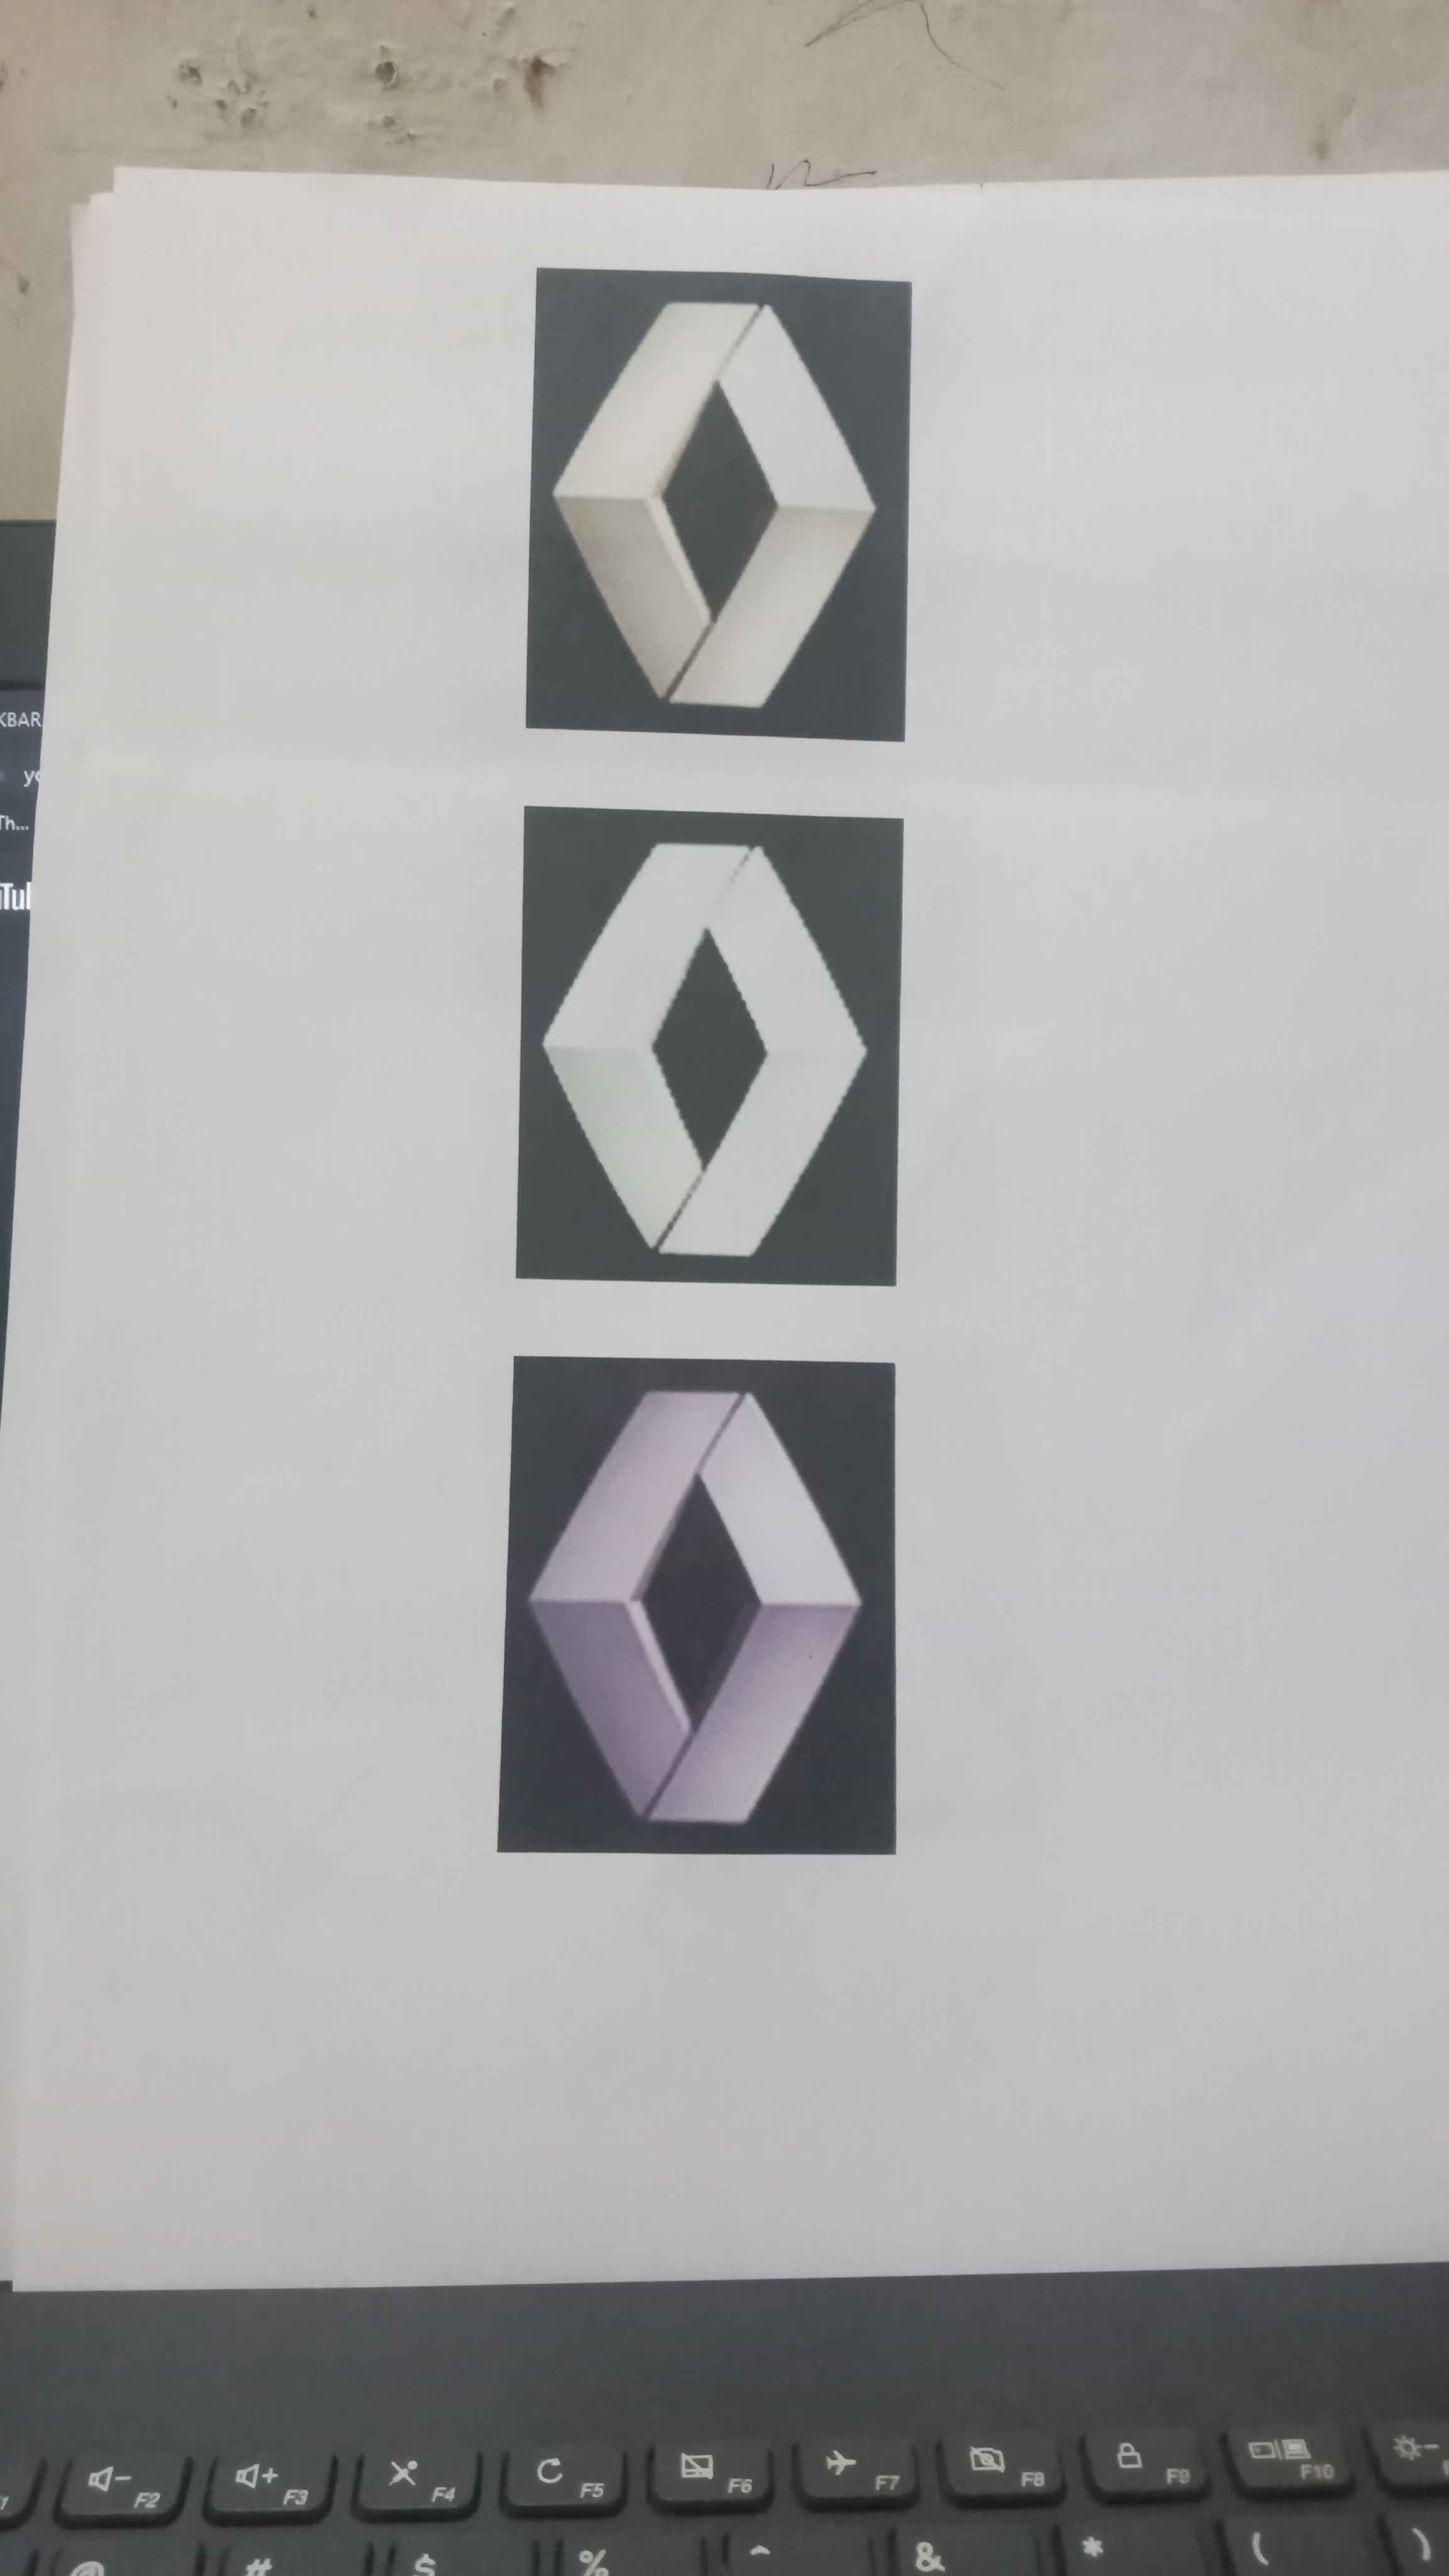Renault: (517, 1366, 879, 1835), (531, 823, 879, 1270), (541, 280, 890, 725)
